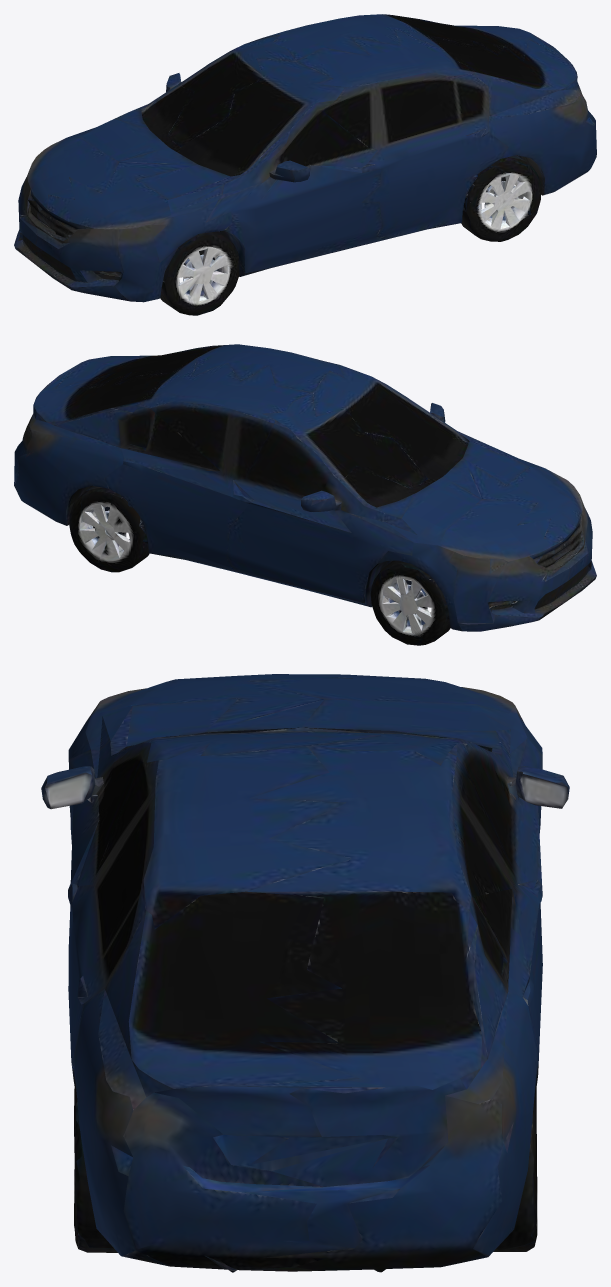
The model's file is p-sedan.glb.
The picture shows the model from 3 angles, top to bottom: view 1: azimuth 30°, elevation 25°; view 2: azimuth 150°, elevation 25°; view 3: azimuth 270°, elevation 25°; orthographic projection. The views are drawn at different scales.
Bounding box in the file's own units: 1.9 × 0.6134 × 0.8242.
Materials: 1 (1 with a texture image).
